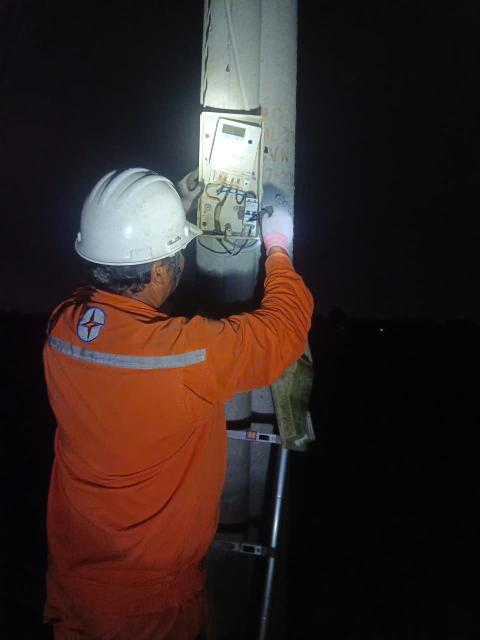gloves: (251, 196, 311, 270), (163, 164, 218, 213)
helmet: (54, 161, 219, 274)
